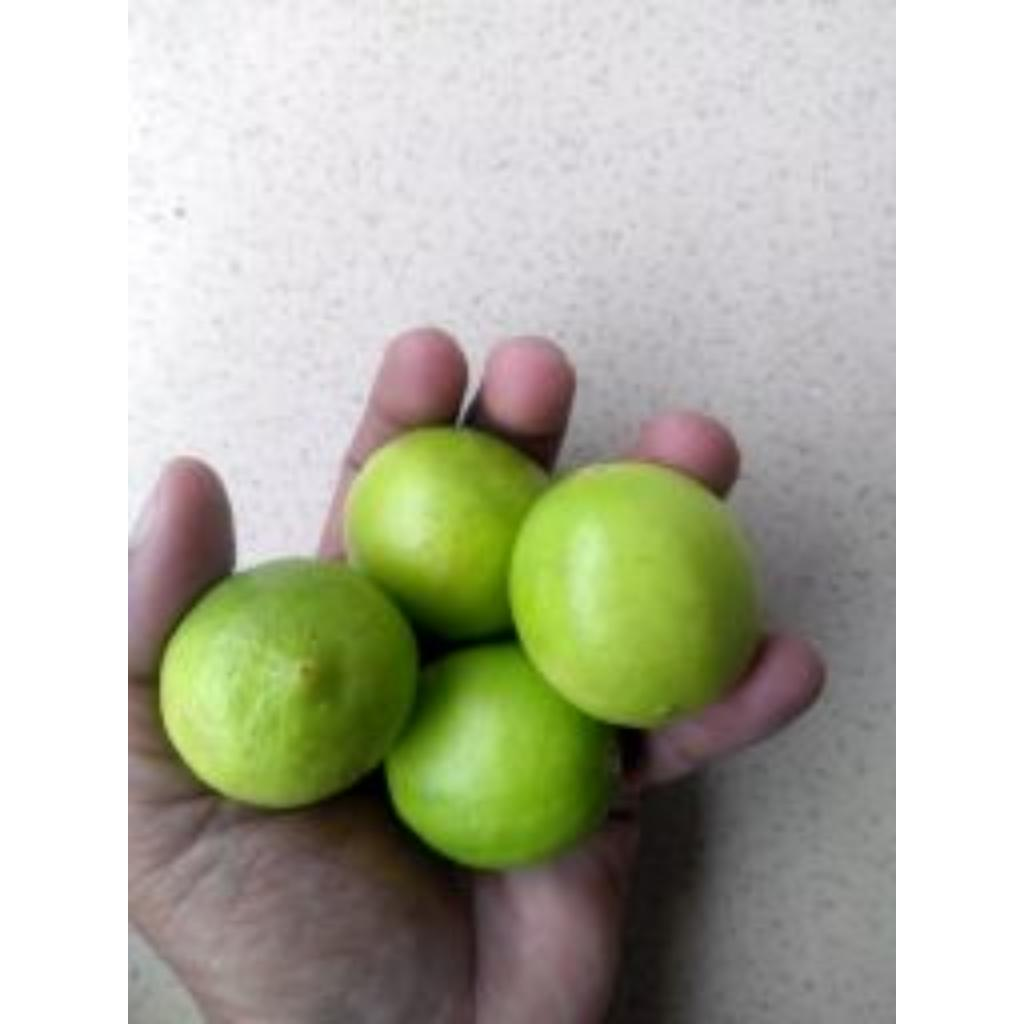lemon: (510, 462, 760, 727), (160, 560, 418, 808), (386, 644, 614, 868), (344, 426, 548, 639)
